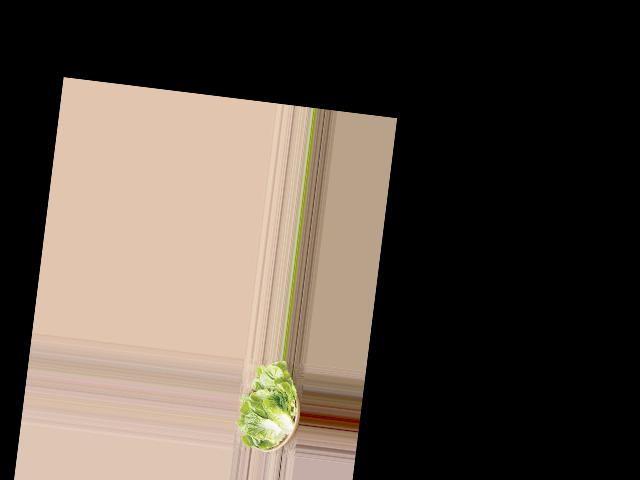lettuce: (235, 357, 305, 459)
